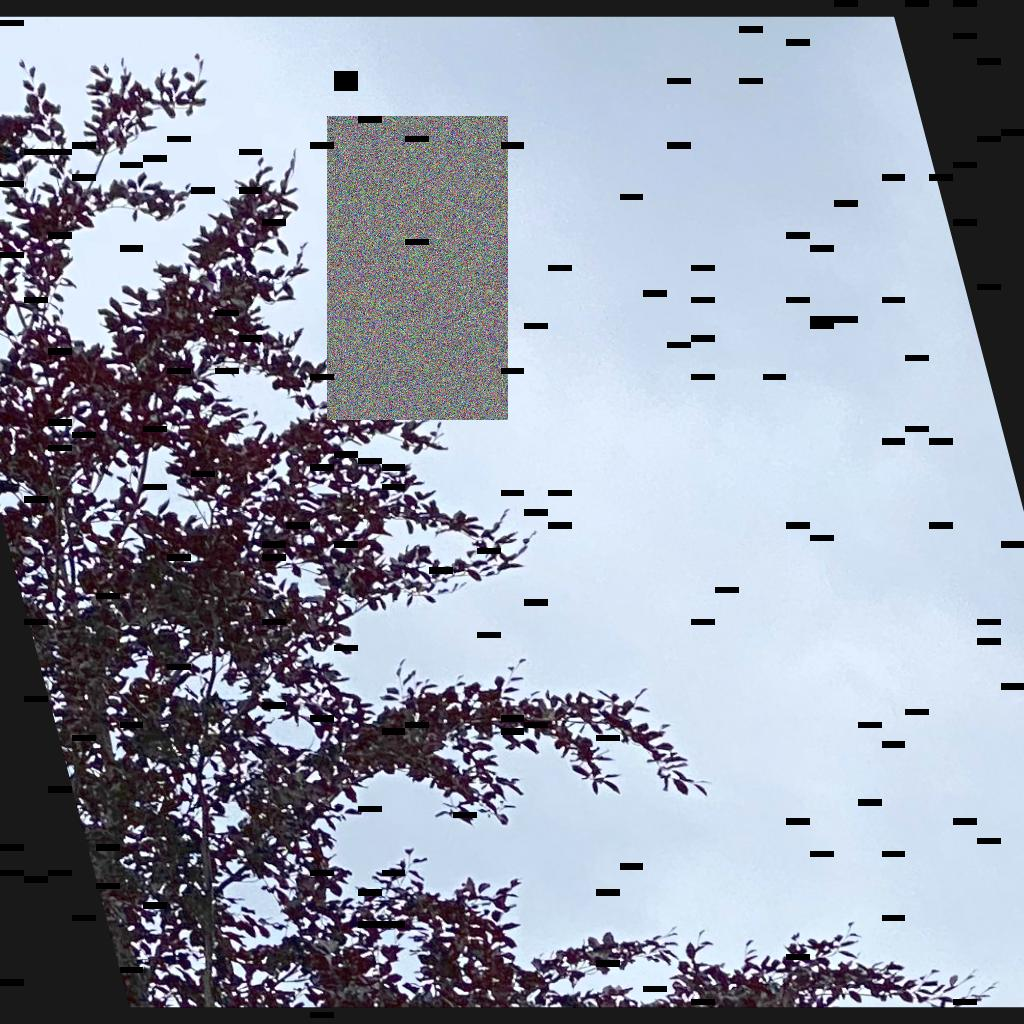tree: (1, 53, 1001, 1007)
